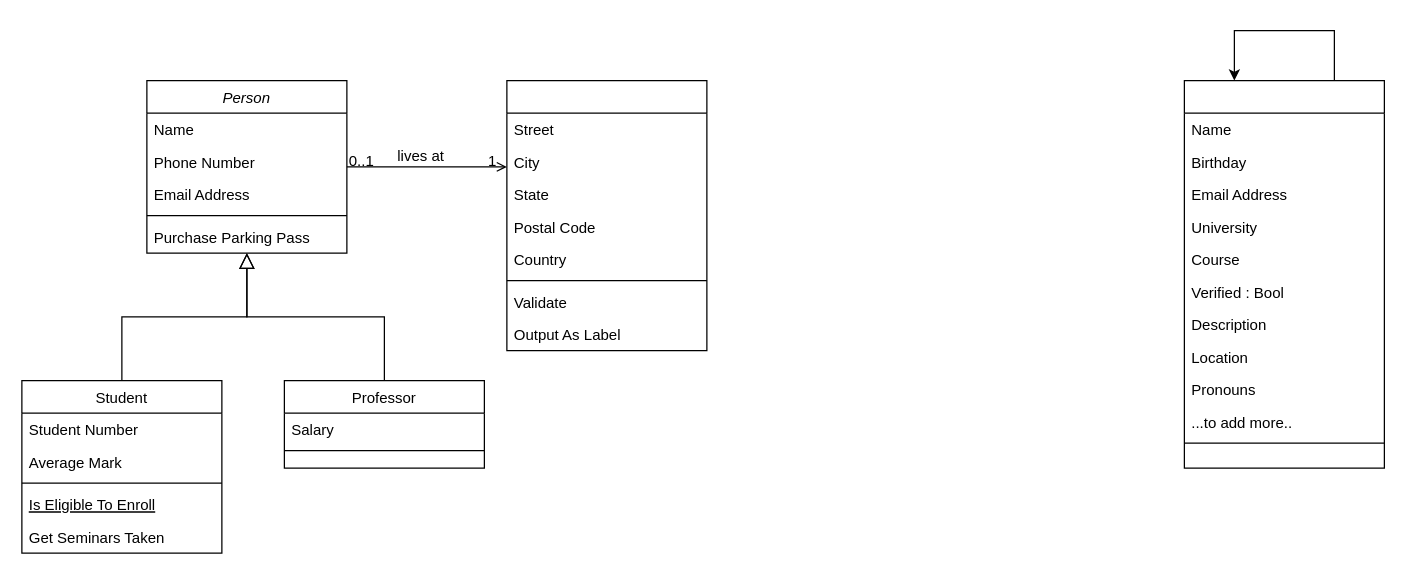
The diagram is 1406 pixels wide and 579 high, and some of its shapes have lost their labels. The box of each missing label's shape, as (x1, y1, x2, y2) in pixels:
Address: (506, 79, 707, 351)
User: (1183, 79, 1384, 468)
